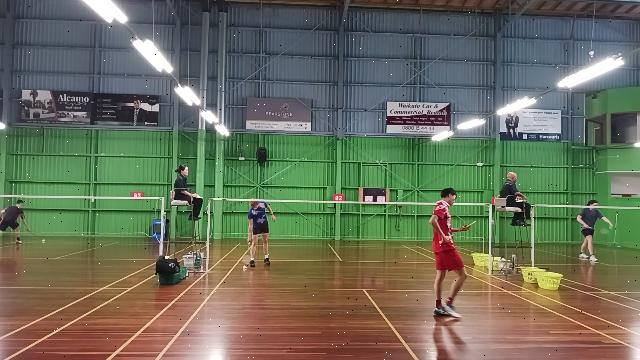Shuttlecock: (242, 264, 248, 272)
